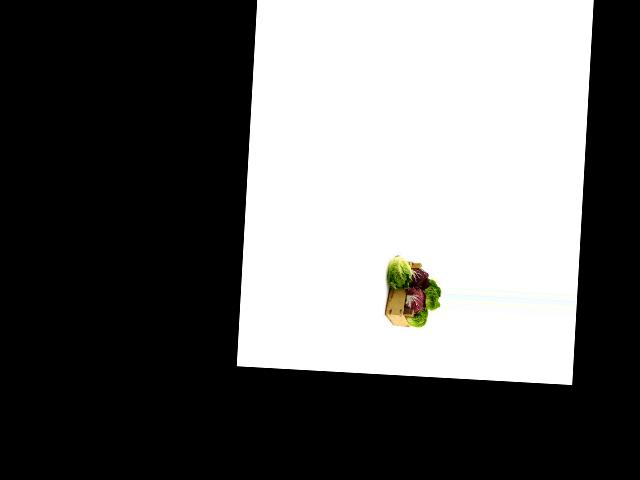lettuce: (419, 278, 441, 310)
